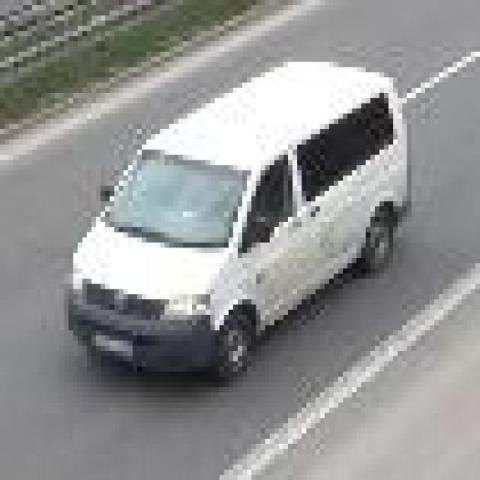van: (65, 62, 412, 382)
